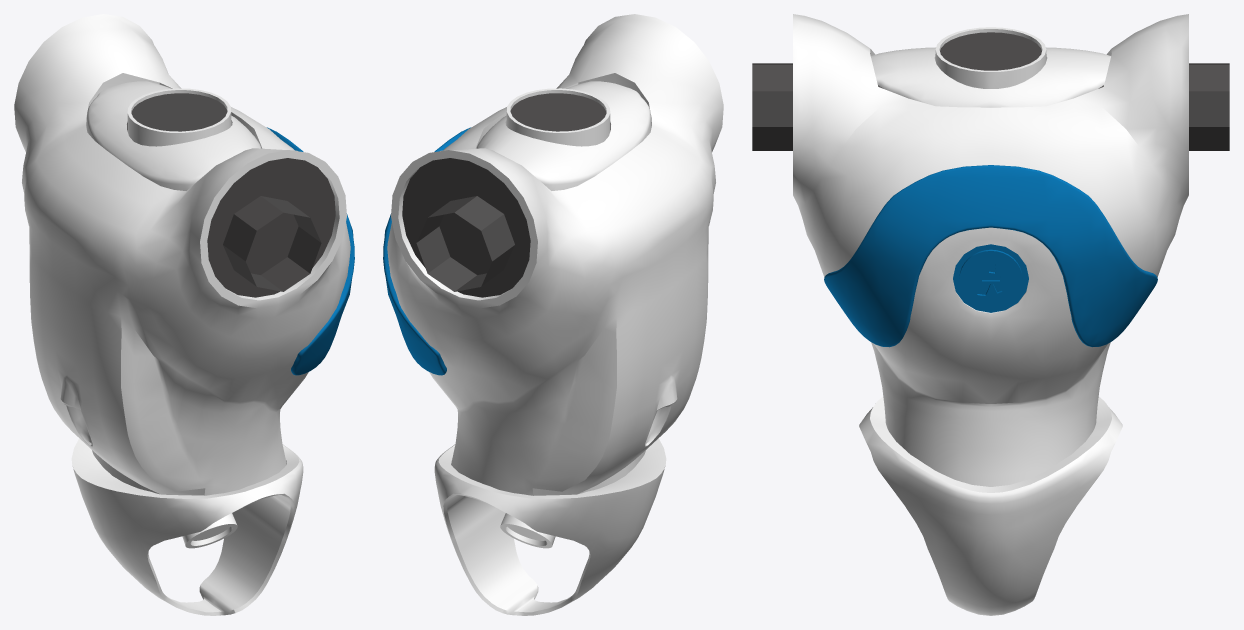
File: Torso.dae
3 views of the same model, side by side, from view 1: azimuth 30°, elevation 25°; view 2: azimuth 150°, elevation 25°; view 3: azimuth 270°, elevation 25° (orthographic). The views are drawn at different scales.
Parts seen in each view (by area): view 1: Torso; view 2: Torso; view 3: Torso.
Boxes of the visible parts, x1=… form: Torso: x1=14, y1=14, x2=354, y2=615; Torso: x1=383, y1=14, x2=723, y2=615; Torso: x1=752, y1=14, x2=1229, y2=615.
Bounding box in the file's own units: 1.12 × 1.74 × 2.29.
Materials: 1 (1 with a texture image).
